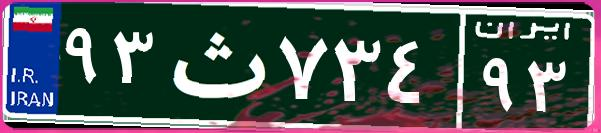3: (330, 28, 385, 110), (110, 28, 158, 105), (525, 38, 570, 115)
4: (385, 28, 445, 110)
7: (273, 28, 330, 110)
9: (57, 26, 110, 107), (475, 38, 525, 113)
ث: (158, 15, 273, 115)
